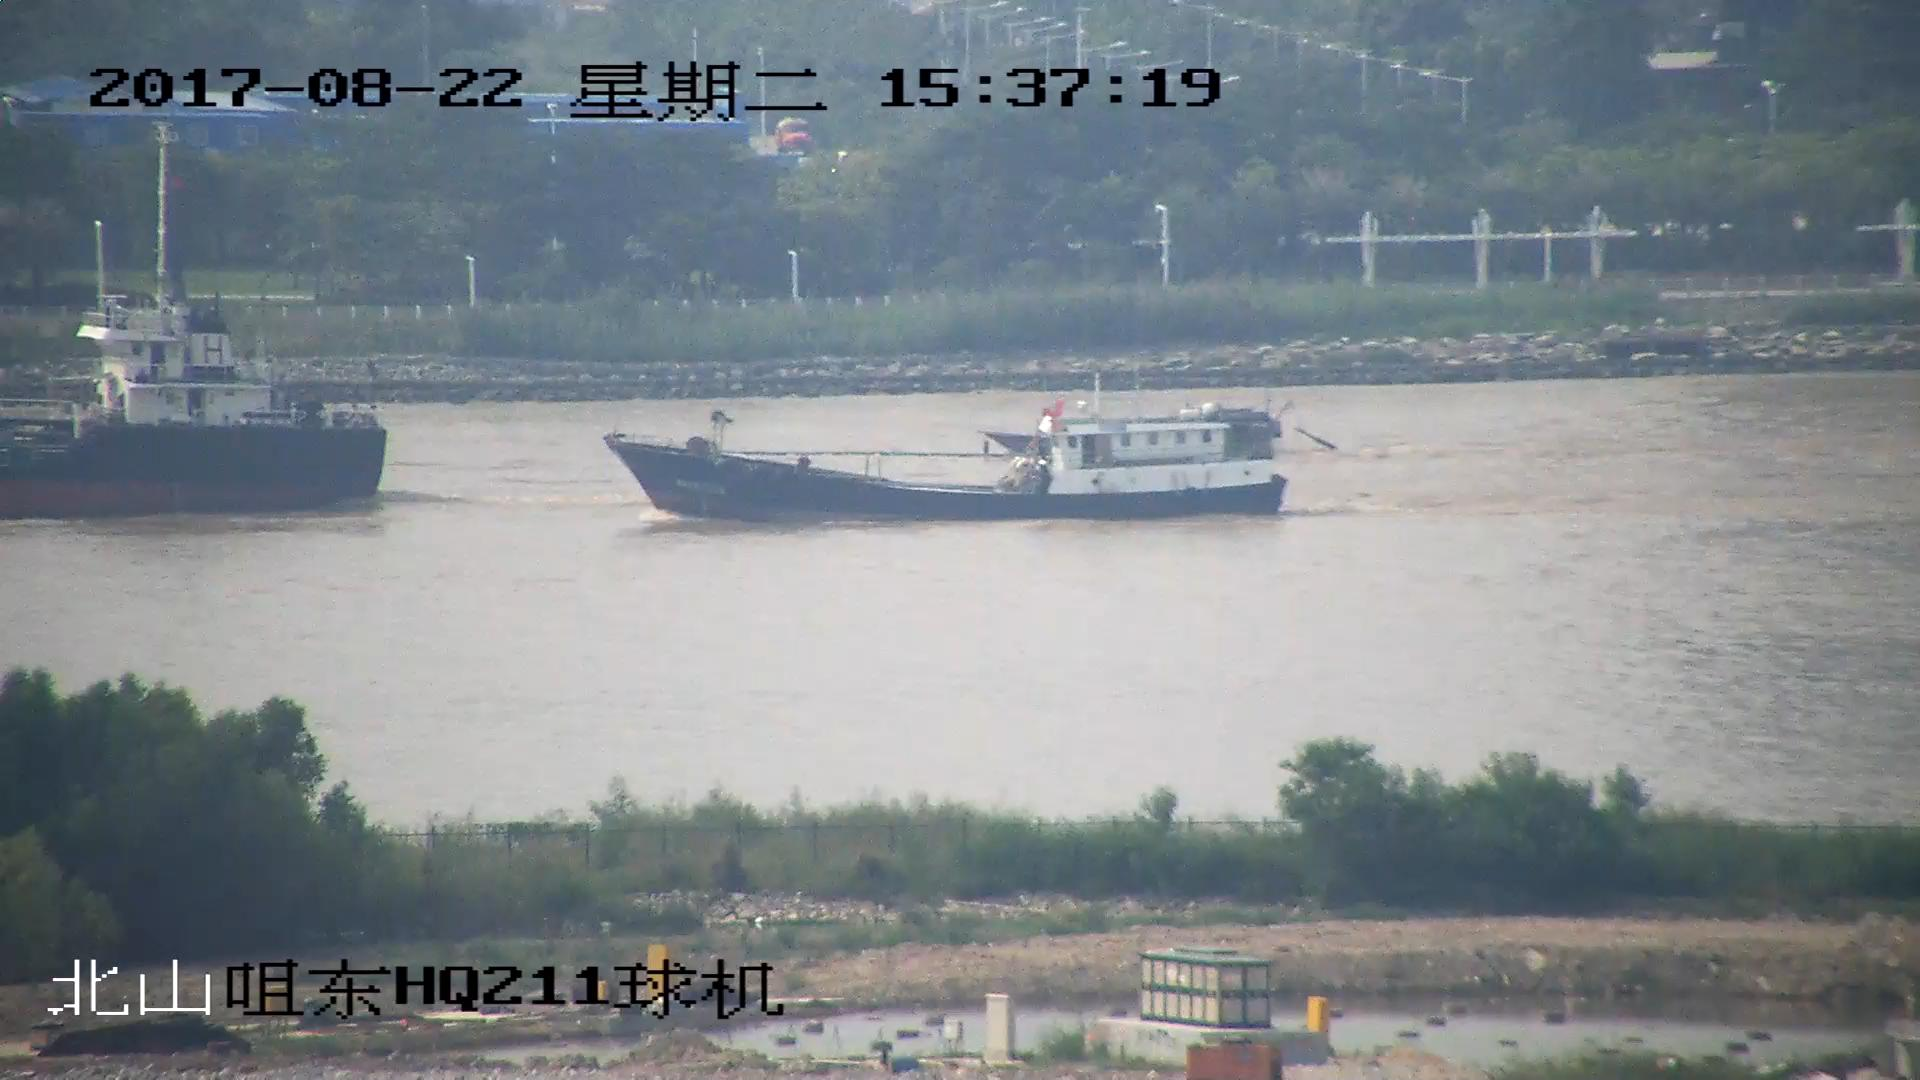fishing boat: (612, 393, 1297, 527), (982, 431, 1038, 454)
general cargo ship: (1, 131, 389, 518)
